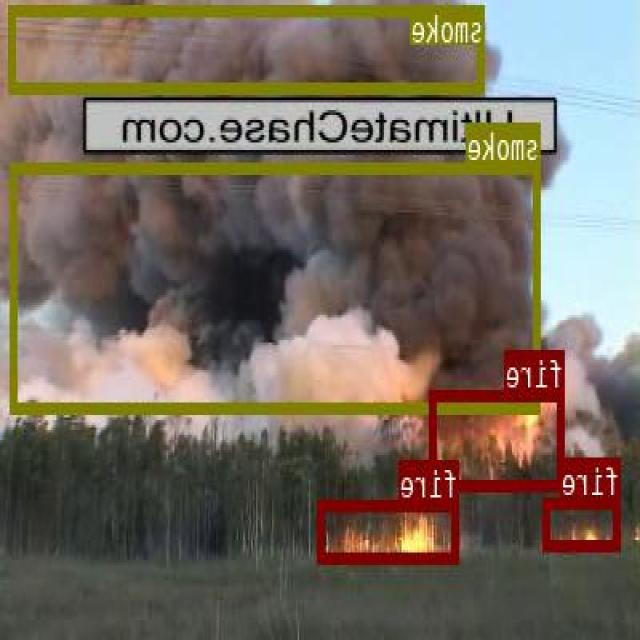fire: (431, 388, 566, 488), (320, 499, 459, 560), (545, 497, 622, 550)
smoke: (12, 160, 542, 411), (10, 5, 486, 91)
